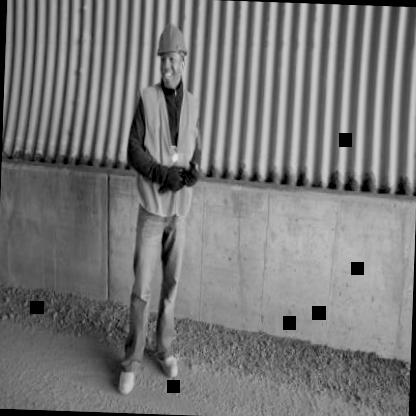helmet: (152, 15, 192, 90)
